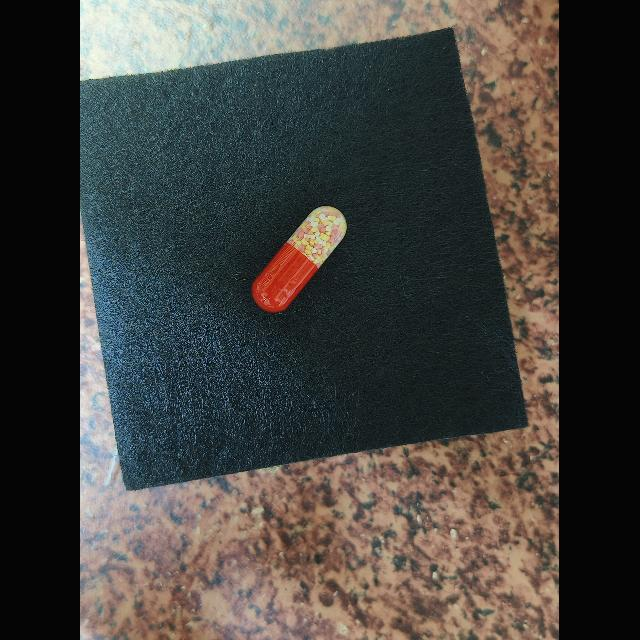Intact Capsule: (252, 206, 347, 313)
